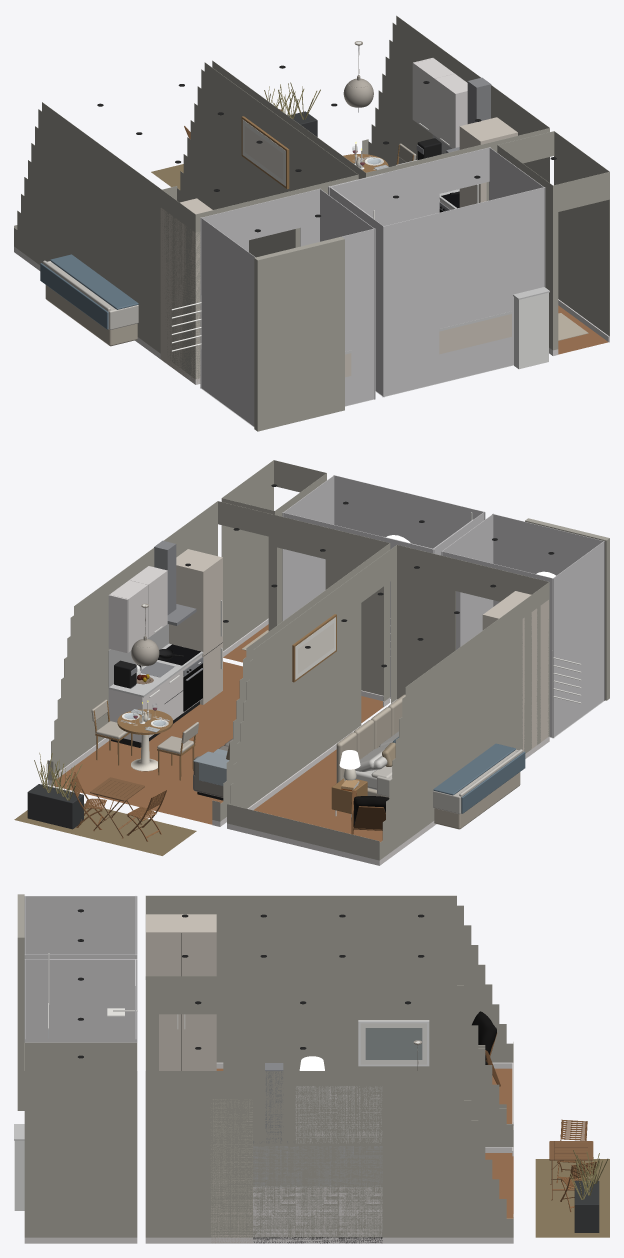
Rendered from unit-2.A-atlantic.glb.
The picture shows the model from 3 angles, top to bottom: view 1: azimuth 30°, elevation 25°; view 2: azimuth 150°, elevation 25°; view 3: azimuth 270°, elevation 25°; orthographic projection. The views are drawn at different scales.
Parts seen in each view (by area): view 1: int-wall, int-bathWall, int-joineryTall, int-joinery, int-bedThrow, int-whiteGloss, int-showerWall, int-headboard, int-duvet, int-steel, int-art:4:1, int-skirting (+7 smaller); view 2: int-wall, int-bathWall, int-floor, int-joineryTall, int-joinery, int-deck, int-headboard, int-skirting, int-bedThrow, int-wood, int-steel, int-outdoor (+18 smaller); view 3: int-wall, int-joineryTall, int-bathWall, int-joinery, int-showerWall, int-deck, int-skirting, int-splash, int-art:6:2, int-floor, int-outdoor, int-model-outdoor_table_chair_set_01-1 (+9 smaller).
Boxes of the visible parts, <box> form: int-wall: <box>14,15,609,431</box>; int-bathWall: <box>200,147,545,426</box>; int-joineryTall: <box>160,117,517,384</box>; int-joinery: <box>412,58,467,209</box>; int-bedThrow: <box>40,254,138,329</box>; int-whiteGloss: <box>514,292,548,369</box>; int-showerWall: <box>328,174,383,225</box>; int-headboard: <box>45,285,137,346</box>; int-duvet: <box>43,260,138,329</box>; int-steel: <box>416,77,491,211</box>; int-art:4:1: <box>244,126,283,179</box>; int-skirting: <box>14,246,609,384</box>; int-wall: <box>47,460,609,860</box>; int-bathWall: <box>282,475,604,737</box>; int-floor: <box>54,661,383,842</box>; int-joineryTall: <box>169,549,548,751</box>; int-joinery: <box>108,566,202,742</box>; int-deck: <box>14,803,196,855</box>; int-headboard: <box>336,694,520,829</box>; int-skirting: <box>47,618,549,865</box>; int-bedThrow: <box>433,743,525,813</box>; int-wood: <box>117,614,367,813</box>; int-steel: <box>131,540,203,688</box>; int-outdoor: <box>27,784,83,829</box>; int-wall: <box>17,894,513,1237</box>; int-joineryTall: <box>146,914,252,1243</box>; int-bathWall: <box>24,896,137,1042</box>; int-joinery: <box>253,1086,382,1237</box>; int-showerWall: <box>48,959,137,1038</box>; int-deck: <box>535,1159,609,1237</box>; int-skirting: <box>24,1062,513,1243</box>; int-splash: <box>253,1146,382,1185</box>; int-art:6:2: <box>365,1028,422,1059</box>; int-floor: <box>216,1068,513,1218</box>; int-outdoor: <box>574,1180,599,1232</box>; int-model-outdoor_table_chair_set_01-1: <box>549,1141,593,1200</box>.
Bounding box in the file's own units: 6.37 × 2.8 × 8.41.
